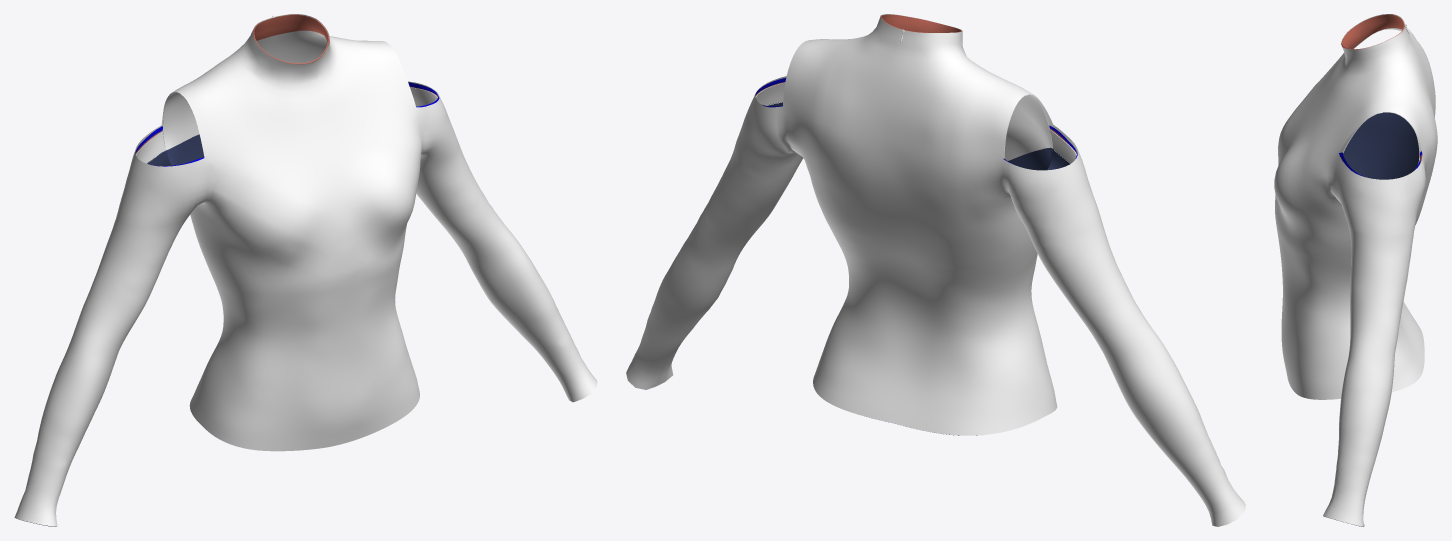
Rendered from Cloth.glb.
3 views of the same model, side by side, from view 1: azimuth 30°, elevation 25°; view 2: azimuth 150°, elevation 25°; view 3: azimuth 270°, elevation 25° (orthographic). The views are drawn at different scales.
Parts seen in each view (by area): view 1: proxy_shell, polySurface10_proxy, polySurface11_proxy, polySurface102_proxy, polySurface104_proxy; view 2: proxy_shell, polySurface105_proxy, polySurface102_proxy; view 3: proxy_shell, polySurface104_proxy, polySurface102_proxy, polySurface110_proxy.
Part boxes in pixels (left/top/right/bottom): proxy_shell: left=14, top=14, right=597, bottom=526; polySurface10_proxy: left=266, top=30, right=327, bottom=63; polySurface11_proxy: left=162, top=37, right=269, bottom=150; polySurface102_proxy: left=254, top=15, right=328, bottom=42; polySurface104_proxy: left=166, top=134, right=204, bottom=165; proxy_shell: left=626, top=14, right=1245, bottom=526; polySurface105_proxy: left=1004, top=95, right=1052, bottom=160; polySurface102_proxy: left=882, top=14, right=960, bottom=32; proxy_shell: left=1274, top=14, right=1437, bottom=526; polySurface104_proxy: left=1355, top=112, right=1419, bottom=179; polySurface102_proxy: left=1341, top=14, right=1403, bottom=48; polySurface110_proxy: left=1343, top=119, right=1368, bottom=170.
Size of the model in its own units: 0.8259 by 0.579 by 0.2239.
